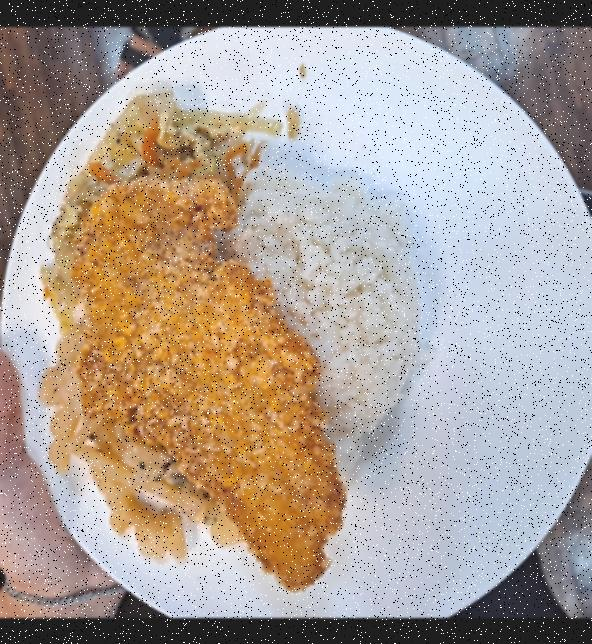big fried chicken leg: (0, 32, 592, 618)
big herbal chicken leg: (205, 170, 426, 452)
braised fish fillet: (37, 72, 264, 303), (37, 314, 225, 566)
braised pork: (70, 166, 344, 586)
